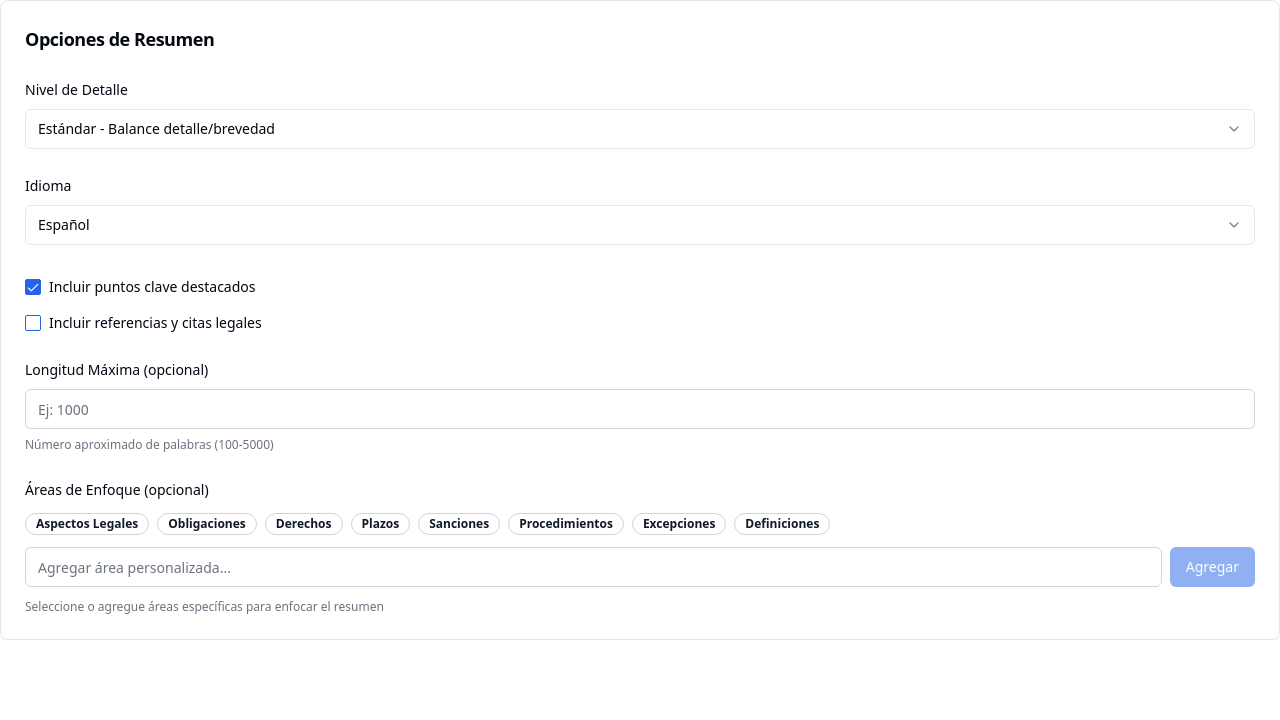
Scenario: SummaryOptions › Max Length Input › should show error for values below minimum
The width and height of the screenshot is (1280, 720).
Type "50" into the number field labelled "Longitud Máxima (opcional)". click: (640, 409)
box: [25,389,1255,429]
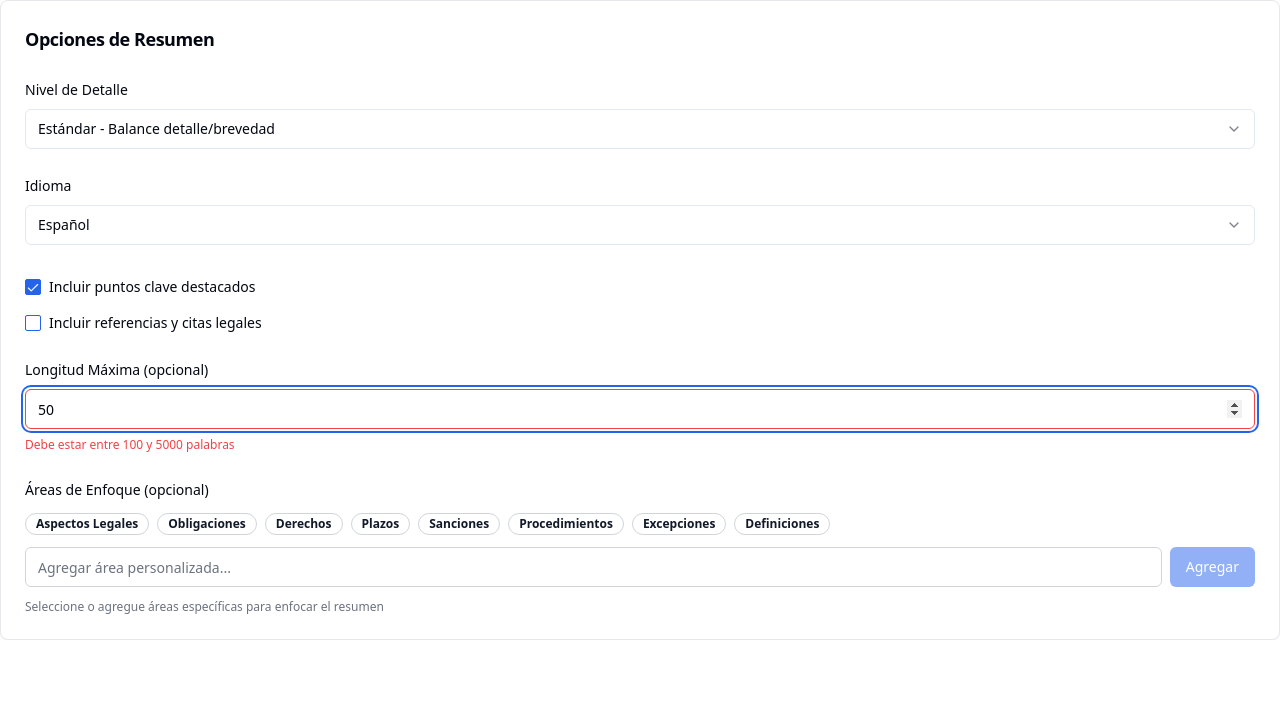
Check: the text "Debe estar entre 100 y 5000 palabras" is shown, box [25,436,235,453]
